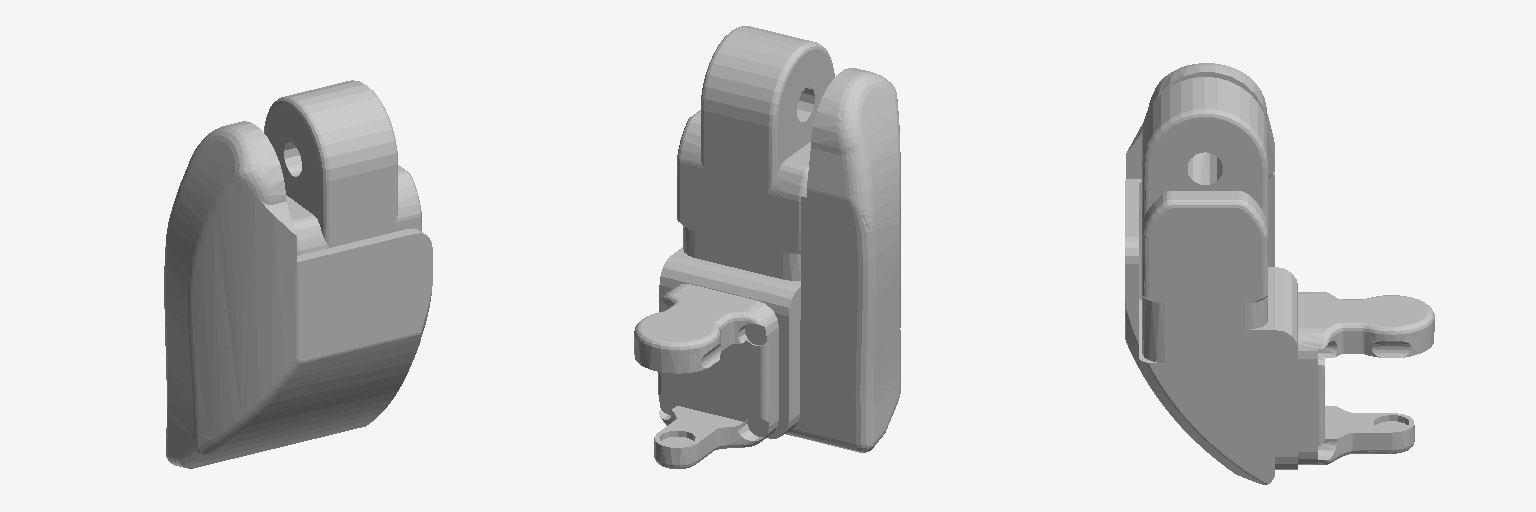
Rendered from tesollo_right_rl_dg_5_1_visuals_rl_dg_5_1_mesh.obj.
3 renders of one model, left to right at view 1: azimuth 30°, elevation 25°; view 2: azimuth 150°, elevation 25°; view 3: azimuth 270°, elevation 25°, orthographic.
Size of the model in its own units: 0.0344 by 0.0601 by 0.0465.